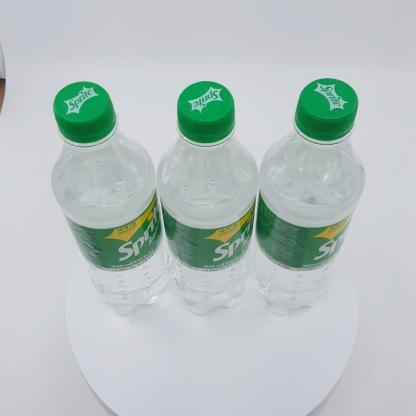-------500ML: (51, 81, 170, 315), (250, 78, 366, 315), (157, 81, 259, 315)
